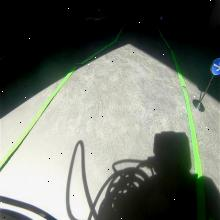right: (210, 54, 220, 75)
